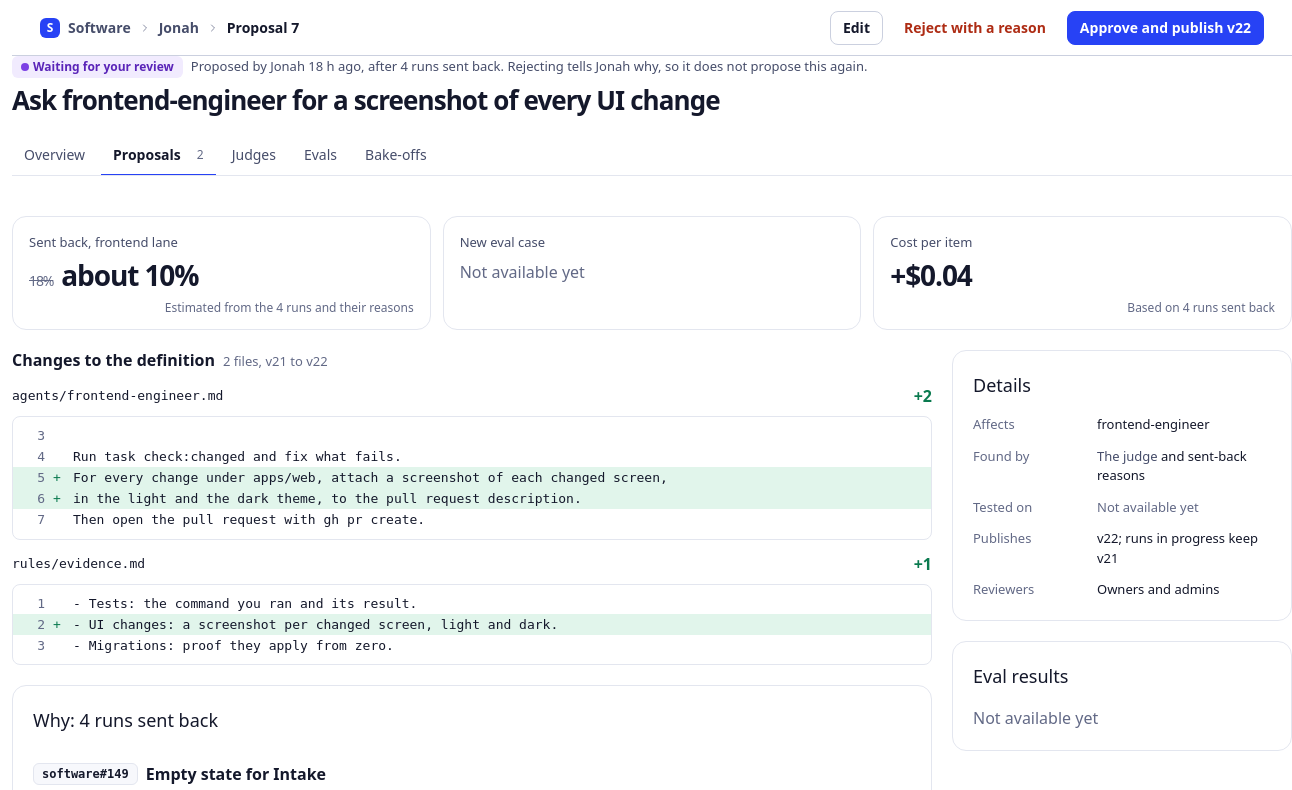
Test: the decisions › Edit shows the draft-conflict message when the draft changed the same files
Click the button "Edit".
click(856, 28)  # box left=830, top=10, right=883, bottom=44
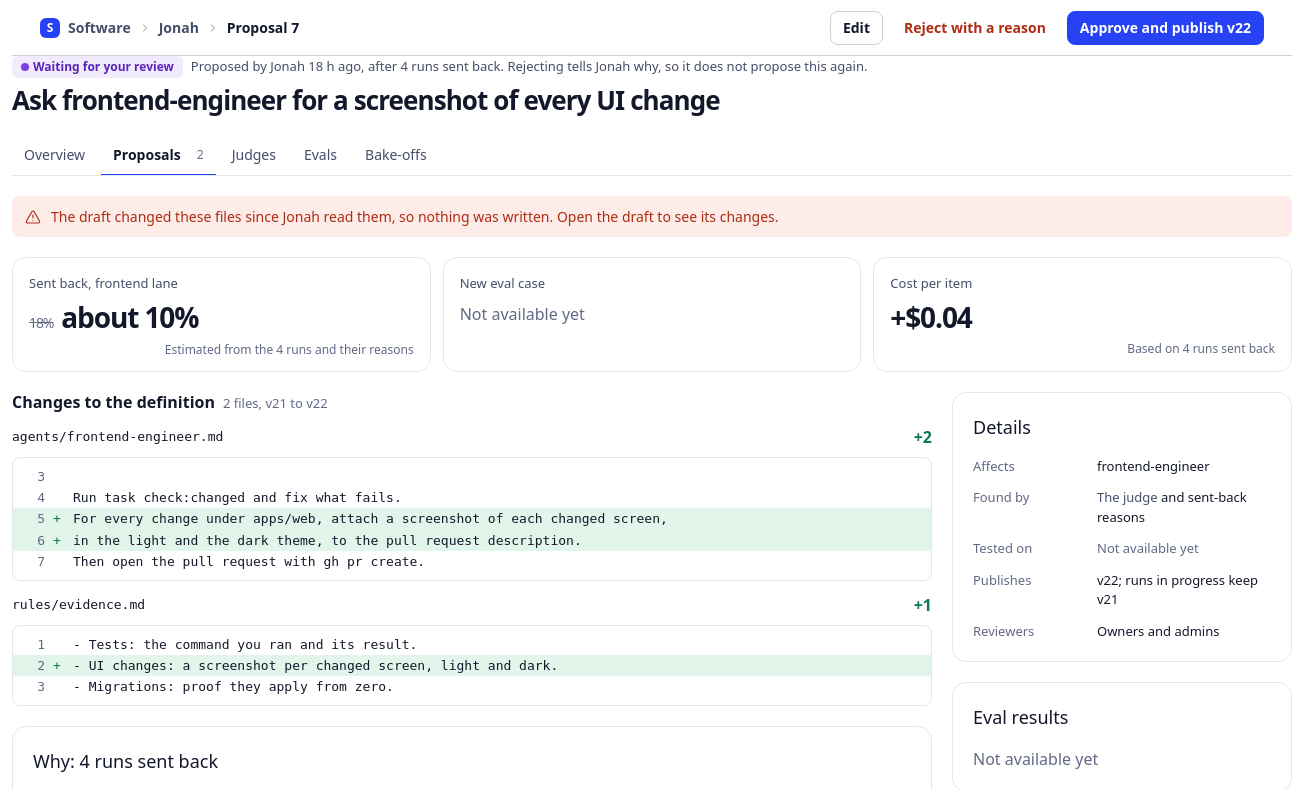
Check: the text "The draft changed these files since Jonah read them" is shown, box left=51, top=207, right=778, bottom=226
